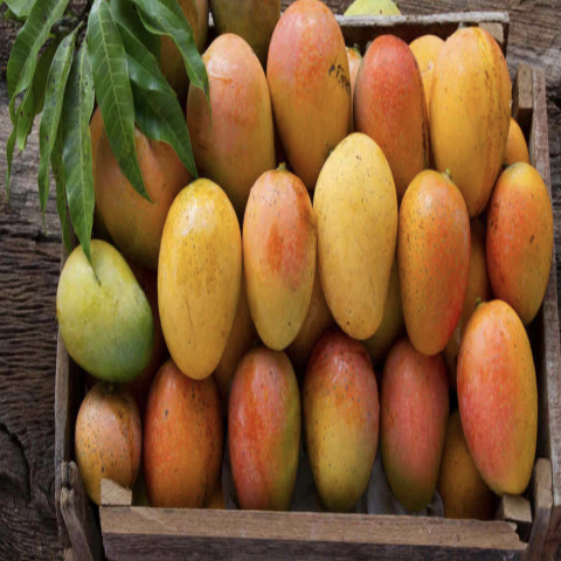mango: (306, 121, 407, 358), (420, 26, 527, 243), (152, 164, 246, 387), (450, 280, 543, 496), (255, 2, 355, 190), (392, 163, 487, 357), (228, 321, 308, 546), (46, 238, 148, 398), (234, 153, 318, 342), (370, 319, 449, 501), (481, 159, 556, 342)
